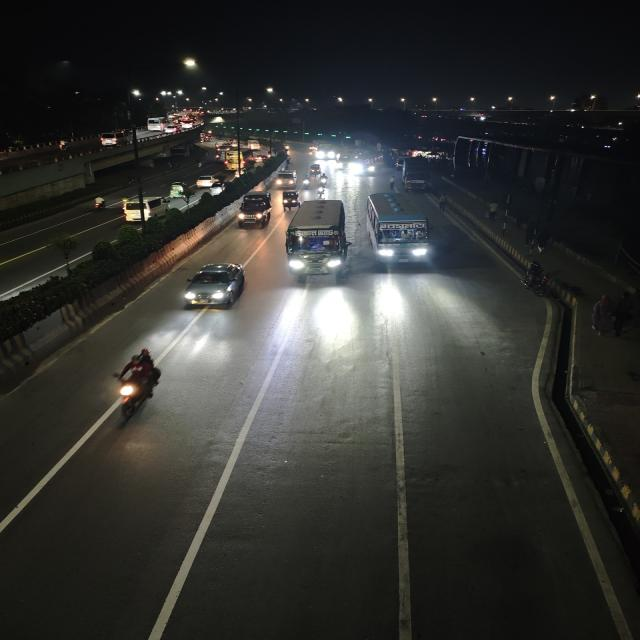bus: (283, 197, 352, 285), (364, 190, 436, 272), (356, 151, 384, 176), (225, 148, 246, 168), (146, 117, 165, 131)
car: (178, 259, 250, 316), (120, 194, 172, 224), (275, 169, 298, 189), (97, 132, 120, 146), (197, 175, 220, 189), (163, 125, 181, 135), (180, 120, 194, 128)
cng: (280, 188, 300, 212), (168, 180, 192, 198), (308, 162, 323, 175)
motorcycle: (106, 345, 165, 427), (521, 261, 554, 297), (46, 233, 78, 258), (90, 193, 109, 213), (317, 174, 330, 188), (316, 185, 328, 199), (387, 176, 397, 191), (316, 181, 328, 193), (195, 157, 206, 170), (303, 175, 312, 189)
truck: (235, 191, 274, 231), (401, 158, 430, 192)
